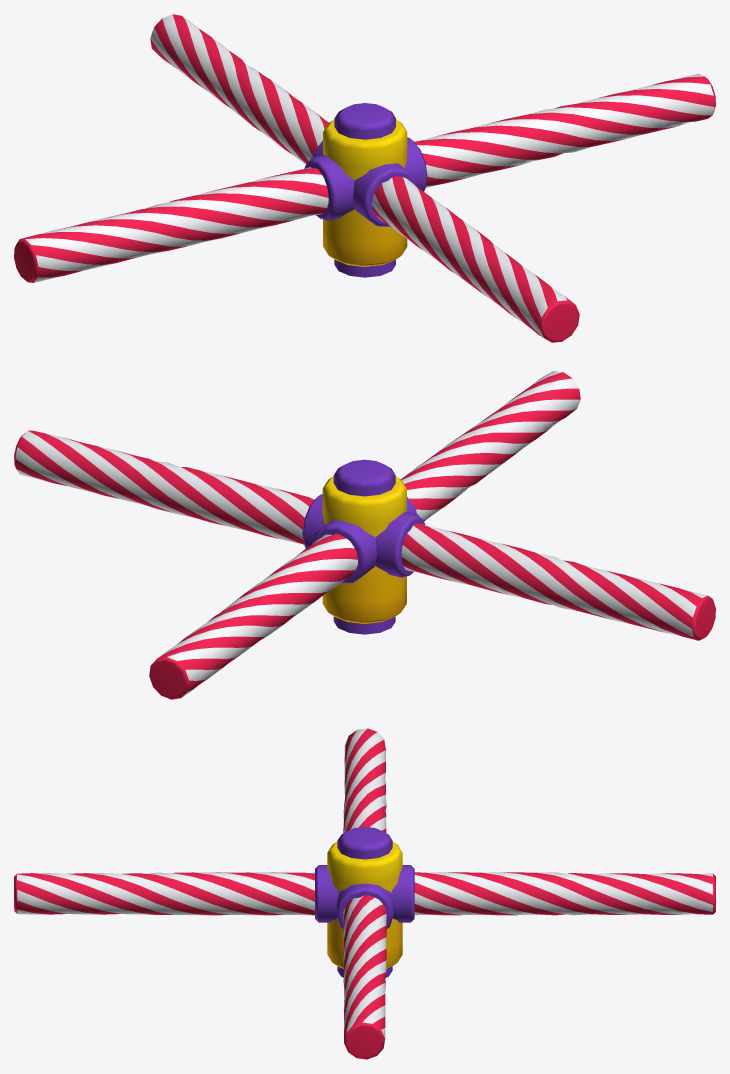
The model's file is obstacle_12_001.glb.
The picture shows the model from 3 angles, top to bottom: view 1: azimuth 30°, elevation 25°; view 2: azimuth 150°, elevation 25°; view 3: azimuth 270°, elevation 25°; orthographic projection. The views are drawn at different scales.
Visible parts, largest first — view 1: obstacle_12_001; view 2: obstacle_12_001; view 3: obstacle_12_001.
Part boxes in pixels (x1,y1,x2,y2): obstacle_12_001: (14,14,715,342); obstacle_12_001: (14,371,715,699); obstacle_12_001: (14,728,715,1059).
Size of the model in its own units: 13.72 by 2.92 by 13.72.
1 material, 1 textured.
